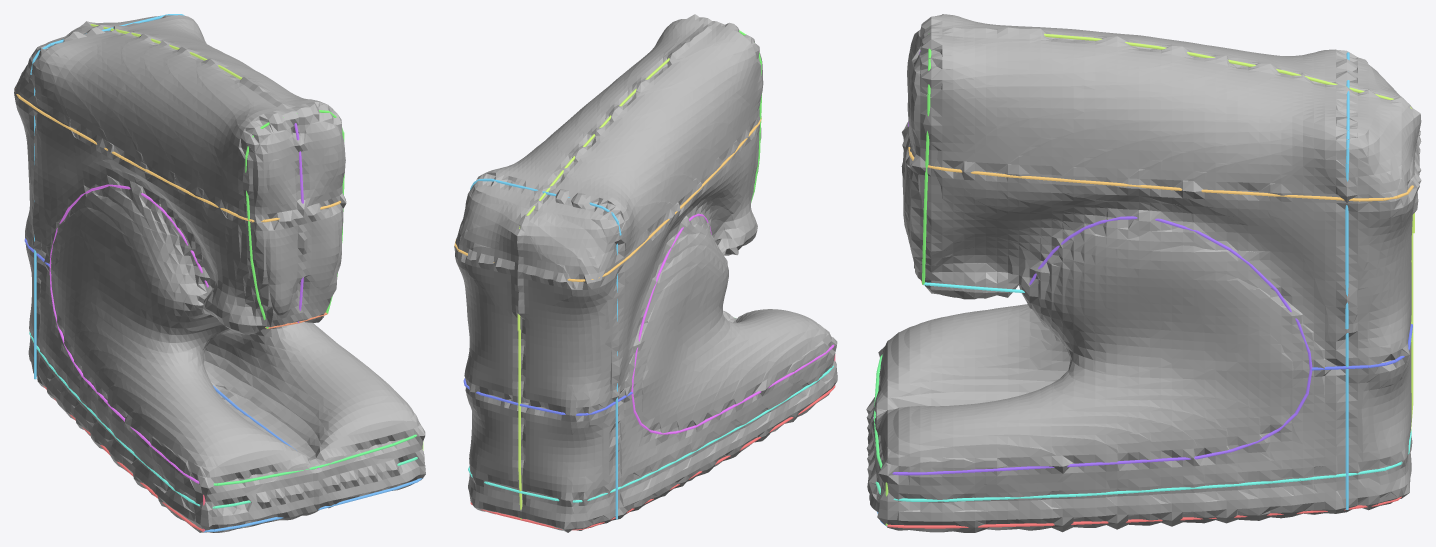
File: t2f_sewing_machine.gltf
The picture shows the model from 3 angles, left to right: view 1: azimuth 30°, elevation 25°; view 2: azimuth 150°, elevation 25°; view 3: azimuth 270°, elevation 25°; orthographic projection. The views are drawn at different scales.
Size of the model in its own units: 0.3922 by 0.6531 by 0.708.
